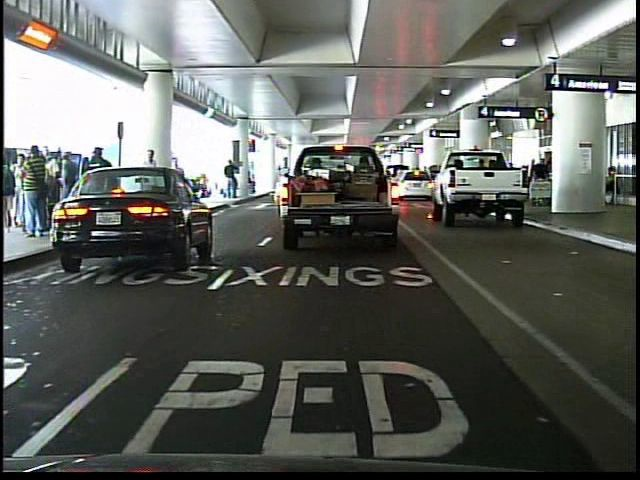person: (136, 146, 164, 229), (168, 156, 193, 229), (168, 152, 191, 225), (222, 159, 241, 200)
